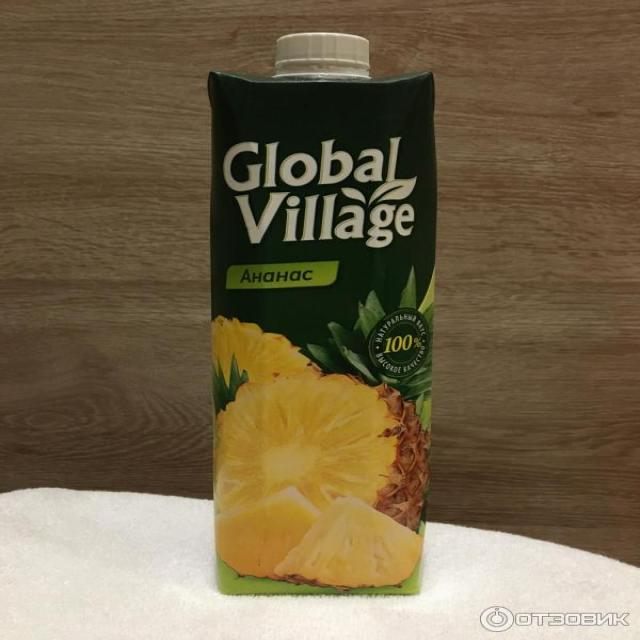Juice Global Village pineapple: (196, 27, 440, 601)
